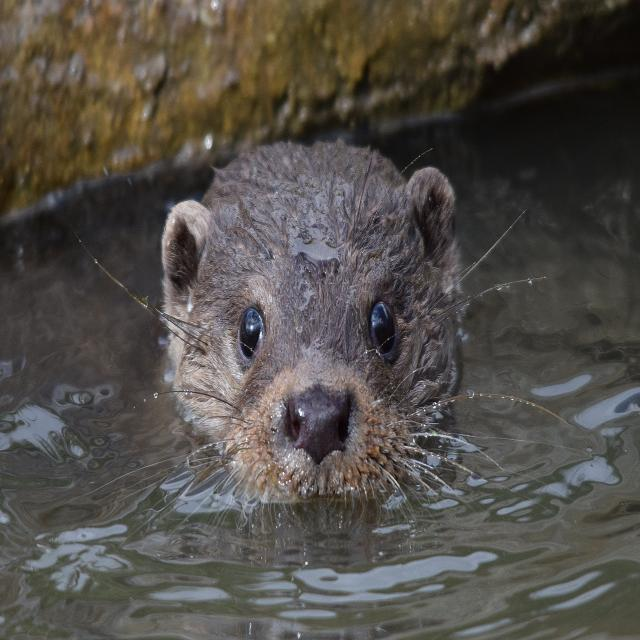otter: (165, 142, 461, 501)
